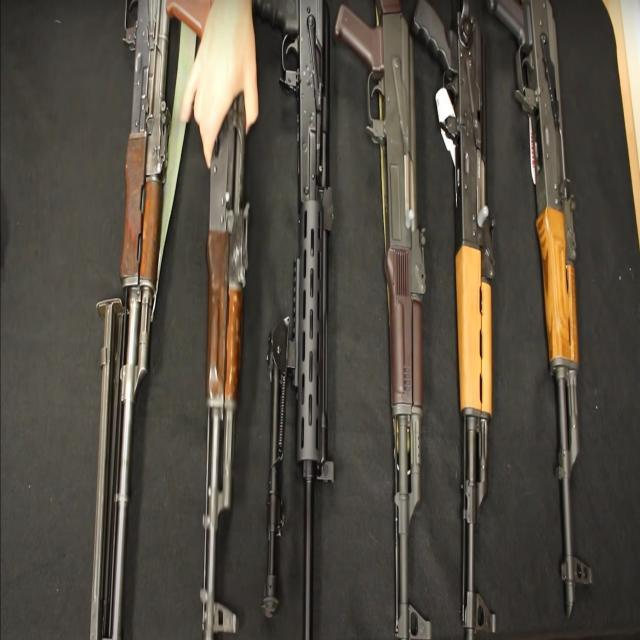ak: (165, 0, 265, 640)
